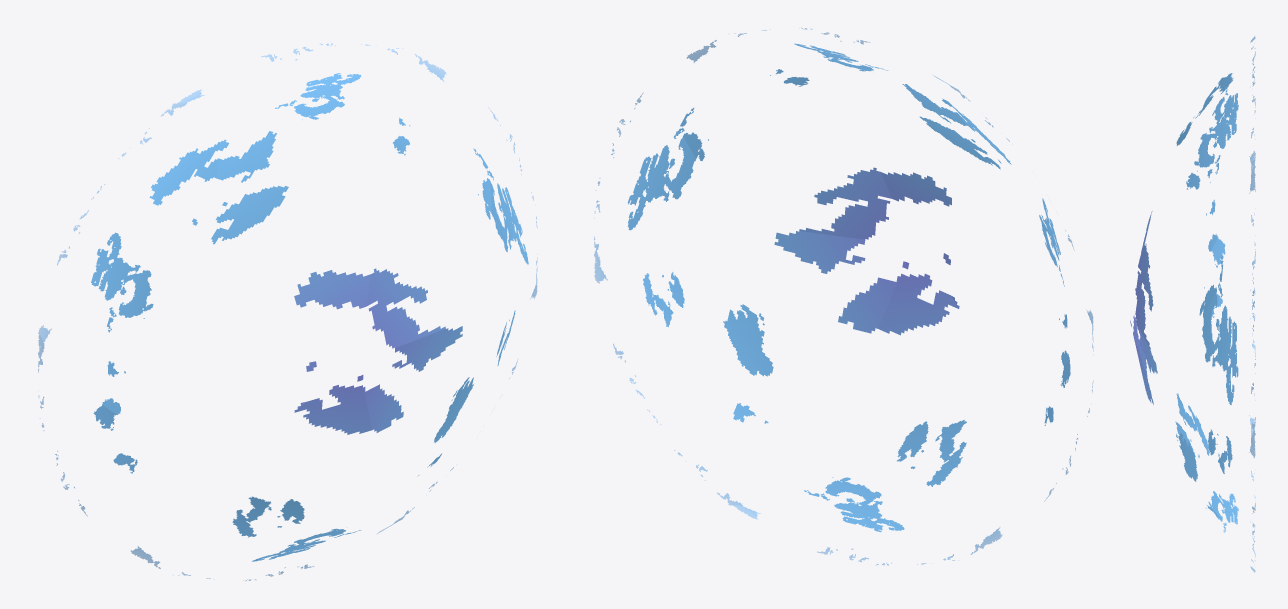
File: sky.glb
The picture shows the model from 3 angles, left to right: view 1: azimuth 30°, elevation 25°; view 2: azimuth 150°, elevation 25°; view 3: azimuth 270°, elevation 25°; orthographic projection. The views are drawn at different scales.
Parts seen in each view (by area): view 1: sky; view 2: sky; view 3: sky.
Boxes of the visible parts, bbox=[...] form: sky: bbox=[38, 43, 537, 581]; sky: bbox=[594, 27, 1093, 565]; sky: bbox=[1130, 36, 1255, 572].
Size of the model in its own units: 11486 by 12078 by 3004.
Materials: 4 (4 with a texture image).
